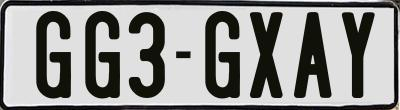3: (127, 9, 164, 95)
A: (293, 12, 333, 102)
G: (33, 11, 74, 102), (83, 11, 123, 104), (203, 10, 239, 102)
X: (248, 12, 285, 99)
Y: (341, 9, 379, 99)
